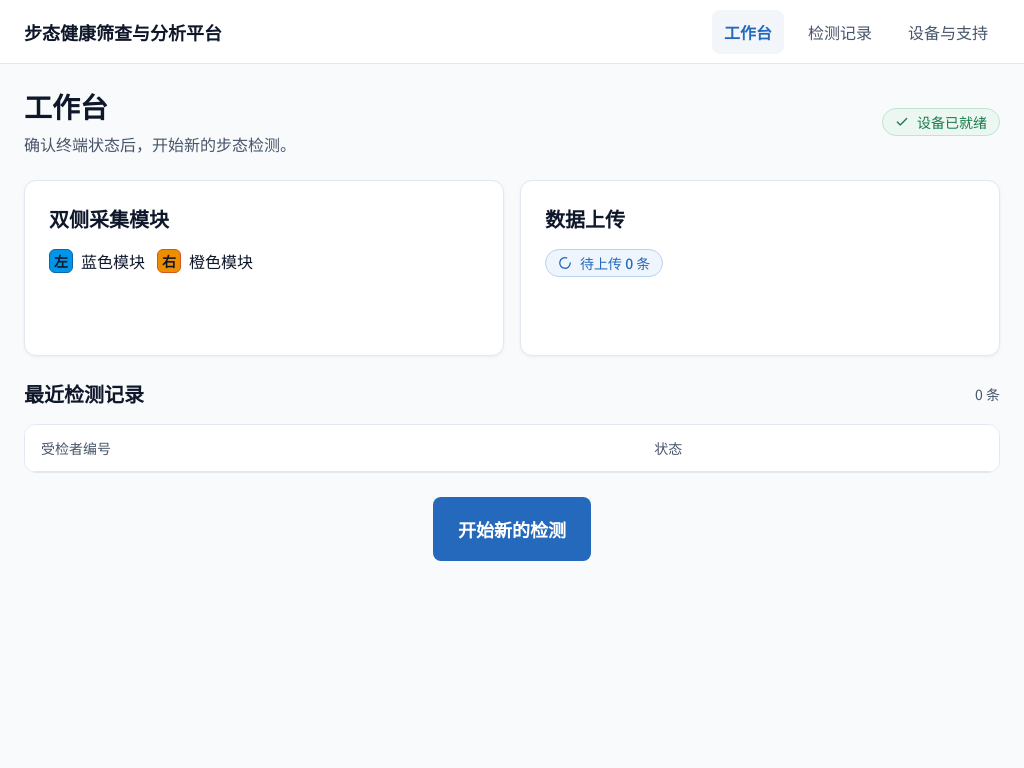
Test: B1：回到工作台时重拉快照 › 顶栏回工作台时先显示上一份快照，拉到新快照后再更新，不回占位屏
expect the heading "工作台" is shown: met, box x1=24 y1=86 x2=108 y2=126
expect the text "待上传 0 条" is shown: met, box x1=545 y1=249 x2=663 y2=277
Click the button "检测记录" at (840, 32), box x1=796 y1=10 x2=884 y2=54
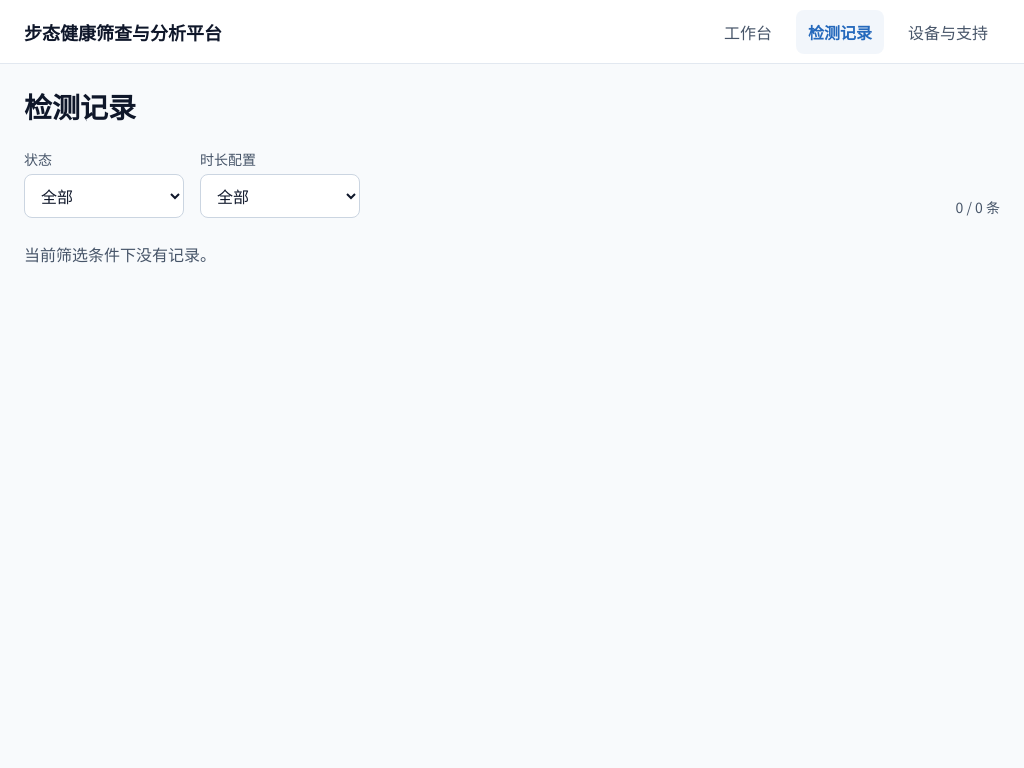
expect the heading "检测记录" is shown: met, box x1=24 y1=86 x2=136 y2=126
Click the button "工作台" at (748, 32), box x1=712 y1=10 x2=784 y2=54
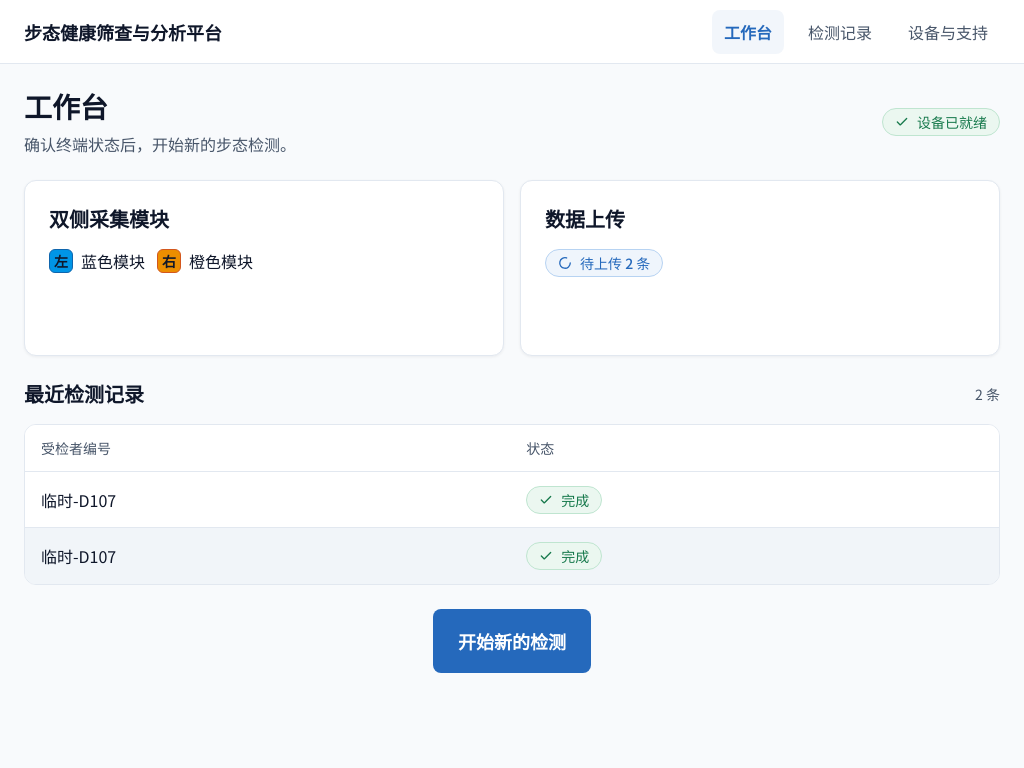
expect the heading "工作台" is shown: met, box x1=24 y1=86 x2=108 y2=126
expect the text "待上传 2 条" is shown: met, box x1=545 y1=249 x2=663 y2=277
expect the text "2 条" is shown: met, box x1=975 y1=383 x2=1000 y2=405
